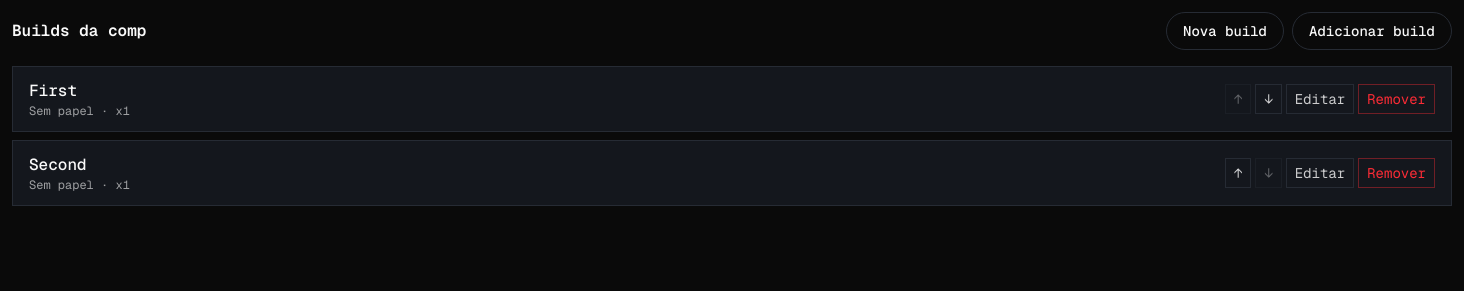
Test: CompBuildsManager (ACM-098) › AC#4 (error path): restores the original order and shows a retry banner when reorderCompBuilds fails
Click the button "↓" in the row of "First".
click(1269, 99)  # box x1=1255 y1=84 x2=1282 y2=114
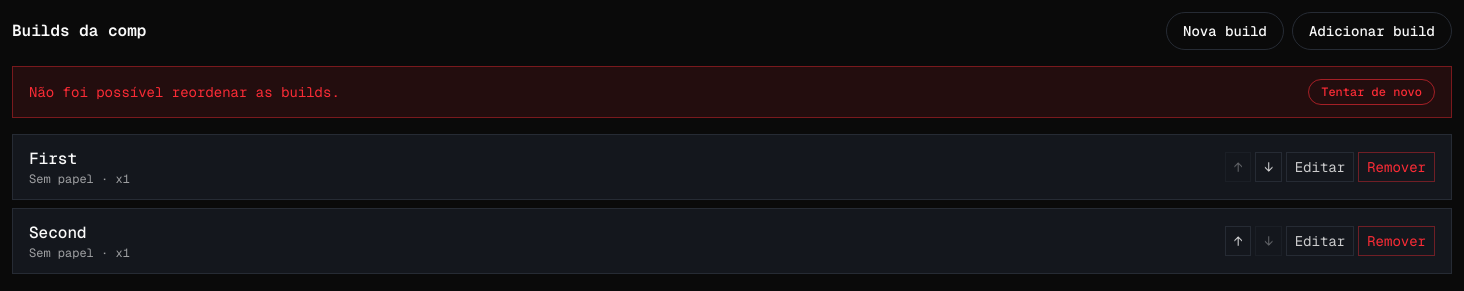
Result: the text "Não foi possível reordenar as builds." is shown at x1=29 y1=82 x2=340 y2=102
